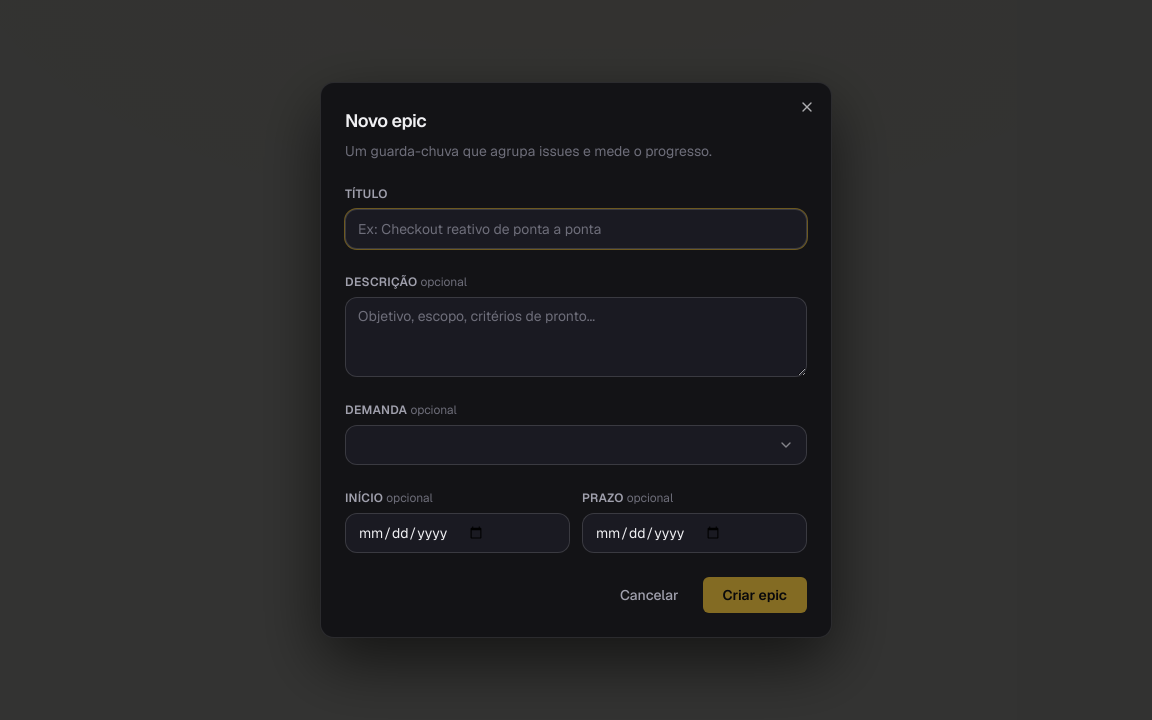
Test case: EpicFormModal › keeps submit disabled until the title is at least 3 chars
Expected: the button "Criar epic" is disabled, [703,577,807,613]
Type "ab" into the field labelled "Título".
click(576, 229); type("ab")  # box [345,209,807,249]
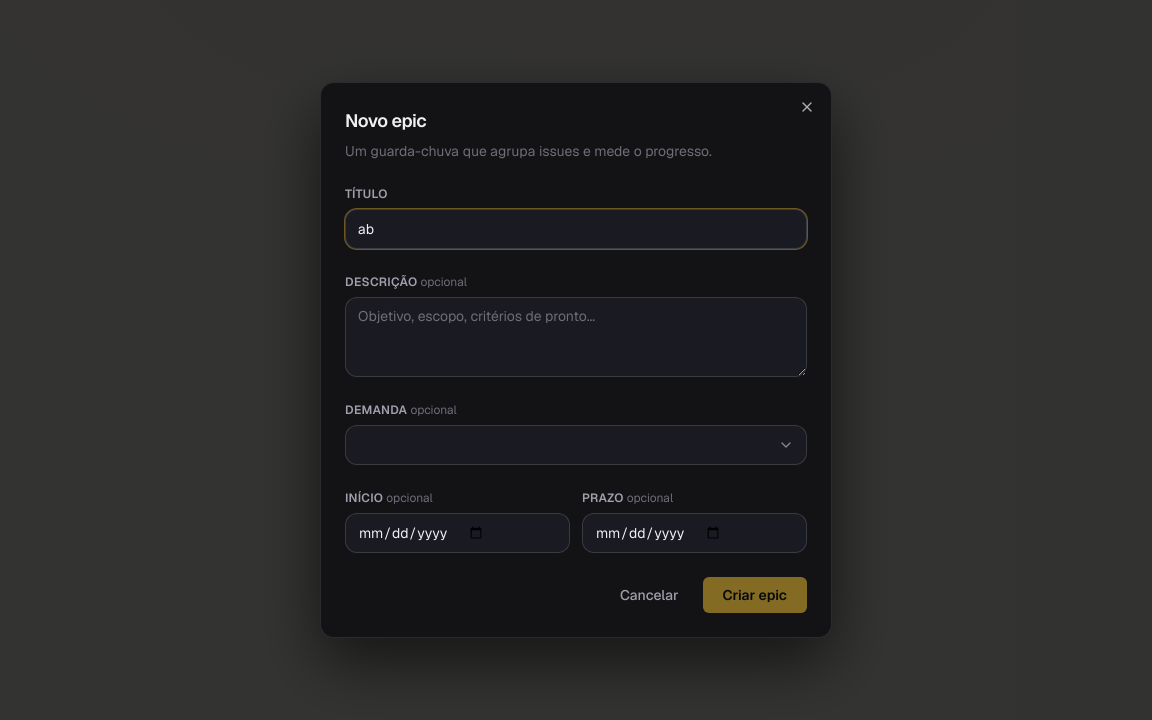
Expected: the button "Criar epic" is disabled, [703,577,807,613]
Type "c" into the field labelled "Título".
click(576, 229); type("c")  # box [345,209,807,249]
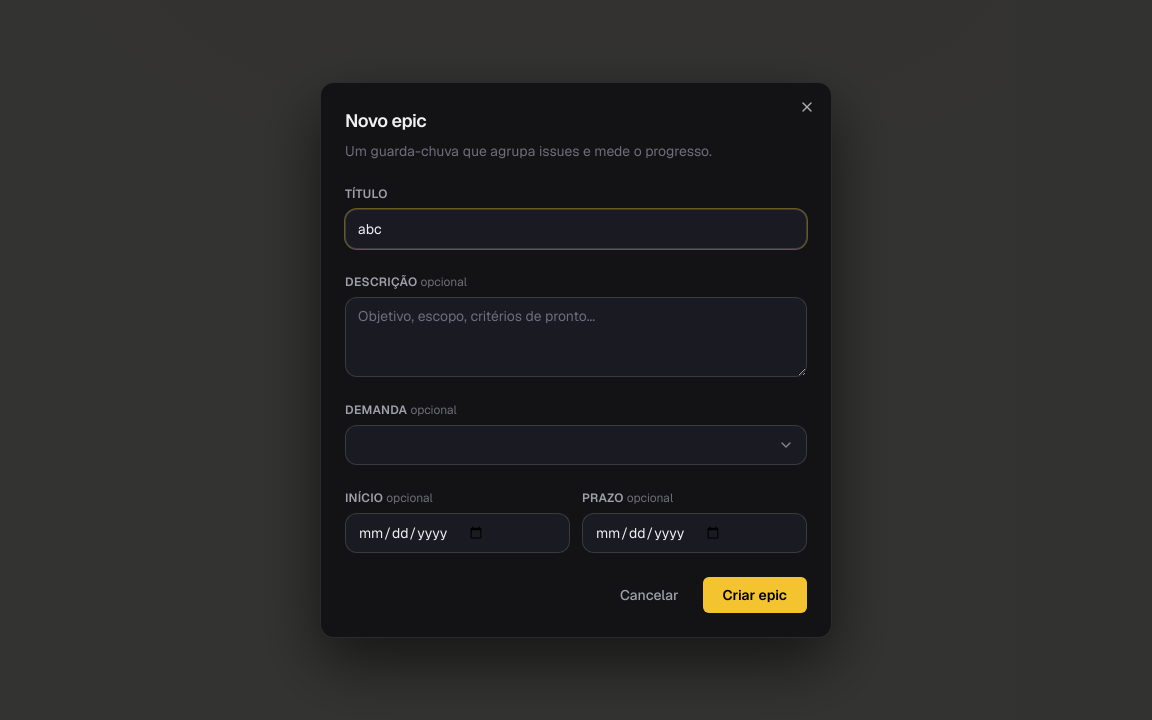
Now the button "Criar epic" is enabled, box [703,577,807,613]
